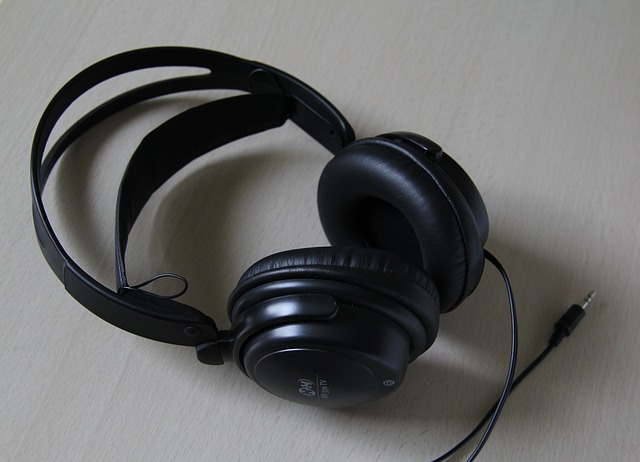headphones: (29, 46, 489, 410)
